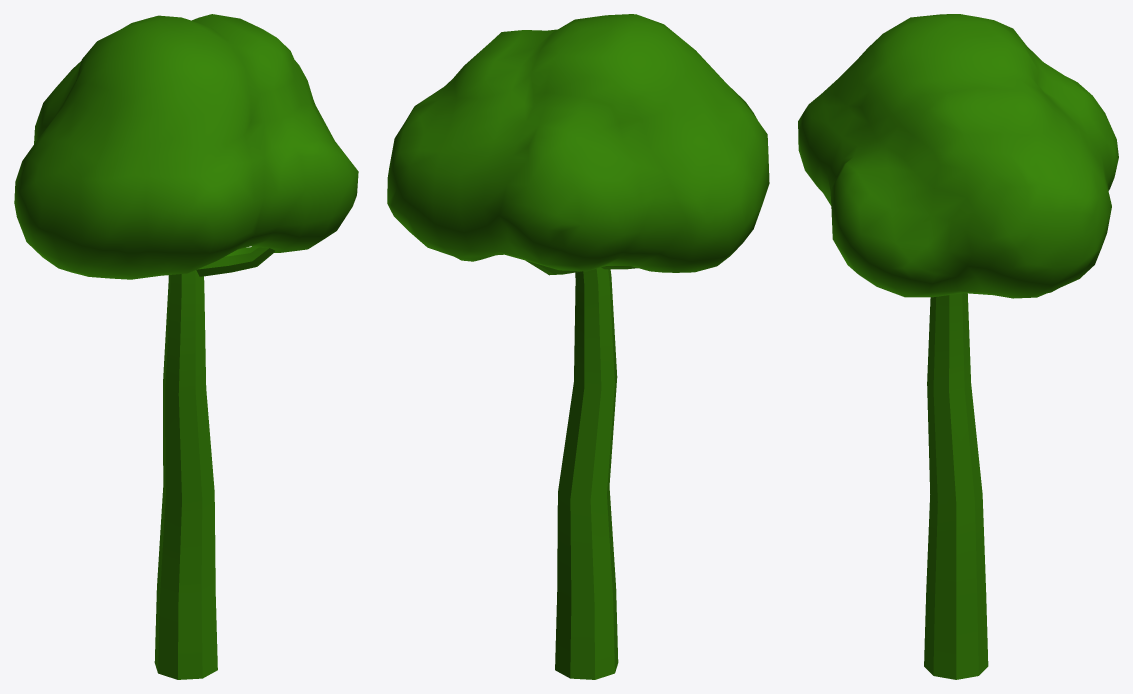
File: SM_tree_B01.fbx
3 views of the same model, side by side, from view 1: azimuth 30°, elevation 25°; view 2: azimuth 150°, elevation 25°; view 3: azimuth 270°, elevation 25° (orthographic).
Visible parts, largest first — view 1: SM_tree_B01; view 2: SM_tree_B01; view 3: SM_tree_B01.
Part boxes in pixels (box(x1,y1,x2,y2)): SM_tree_B01: box(14, 14, 358, 679); SM_tree_B01: box(387, 14, 769, 679); SM_tree_B01: box(798, 14, 1118, 679).
Size of the model in its own units: 488 by 951 by 437.
